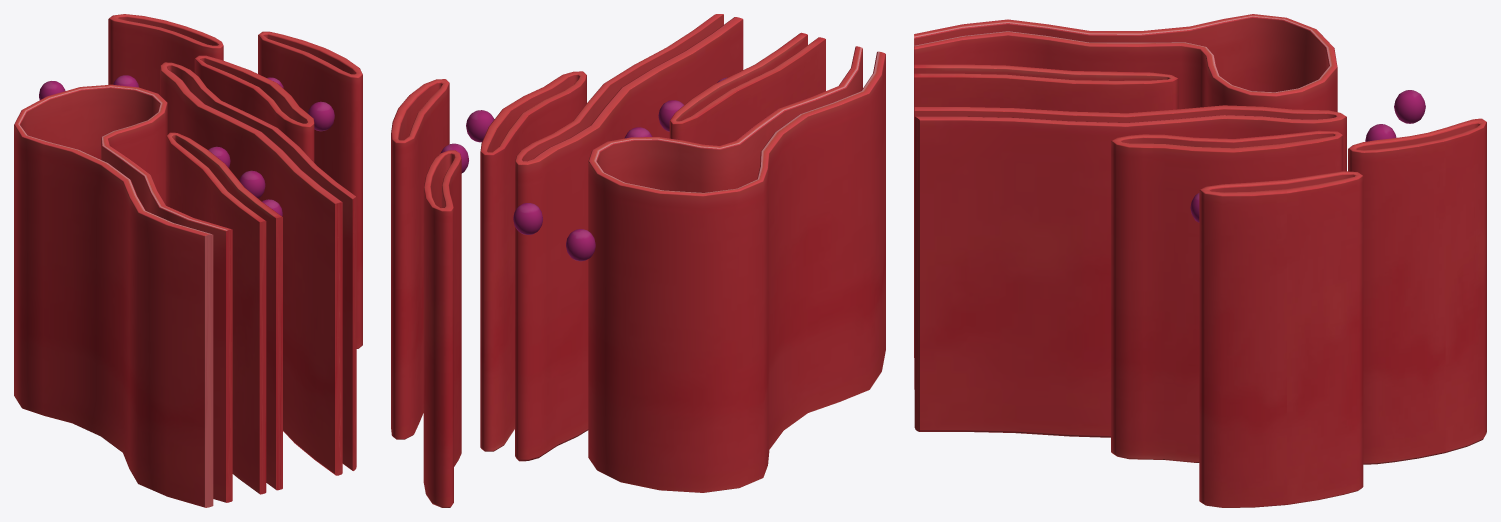
Rendered from ComplejoGolgi.fbx.
The picture shows the model from 3 angles, left to right: view 1: azimuth 30°, elevation 25°; view 2: azimuth 150°, elevation 25°; view 3: azimuth 270°, elevation 25°; orthographic projection. The views are drawn at different scales.
Parts seen in each view (by area): view 1: pSphere56; view 2: pSphere56; view 3: pSphere56.
Part boxes in pixels (x1,y1,x2,y2): pSphere56: [14, 14, 362, 507]; pSphere56: [391, 14, 885, 507]; pSphere56: [914, 14, 1486, 507].
Size of the model in its own units: 2.32 by 1.86 by 3.08.
1 material, 1 textured.
